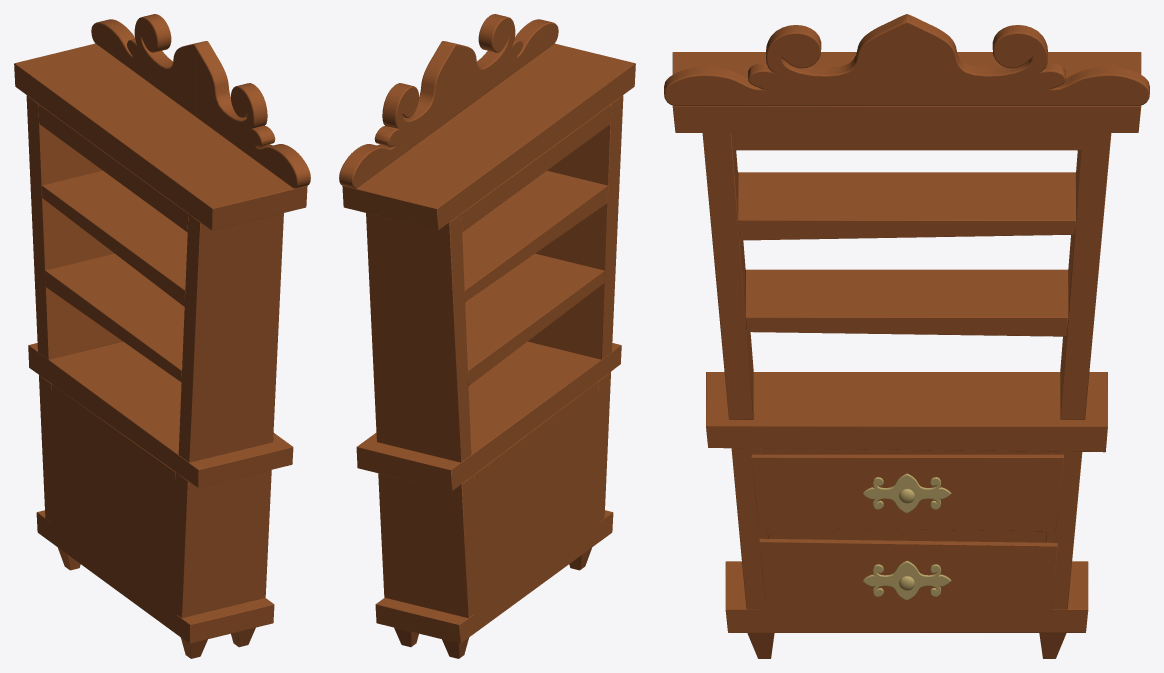
Rendered from Book_Shelf2.glb.
3 views of the same model, side by side, from view 1: azimuth 30°, elevation 25°; view 2: azimuth 150°, elevation 25°; view 3: azimuth 270°, elevation 25° (orthographic). The views are drawn at different scales.
Visible parts, largest first — view 1: Bookcase2; view 2: Bookcase2; view 3: Bookcase2.
Boxes of the visible parts, x1=… form: Bookcase2: x1=14, y1=14, x2=310, y2=658; Bookcase2: x1=339, y1=14, x2=635, y2=658; Bookcase2: x1=664, y1=14, x2=1149, y2=658.
Bounding box in the file's own units: 0.4921 × 2.63 × 1.78.
